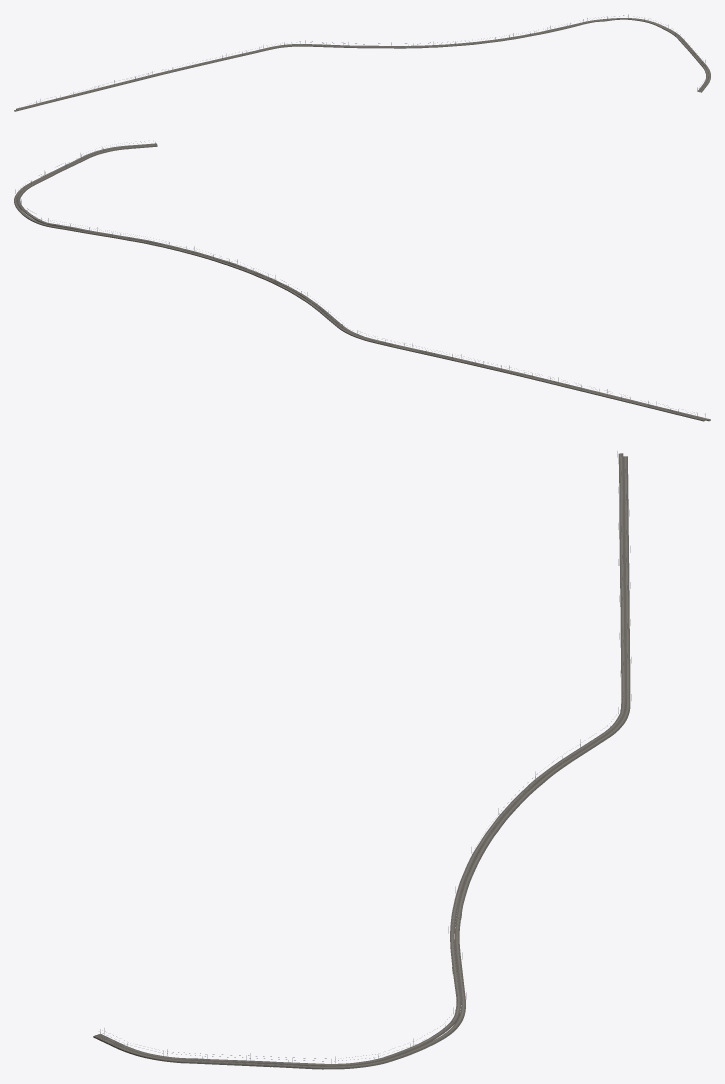
The model's file is br_k209_valley_line_track_lod1.gltf.
3 views of the same model, one above another, from view 1: azimuth 30°, elevation 25°; view 2: azimuth 150°, elevation 25°; view 3: azimuth 270°, elevation 25° (orthographic). The views are drawn at different scales.
Parts seen in each view (by area): view 1: br_k209_valley_line_track_lod1; view 2: br_k209_valley_line_track_lod1; view 3: br_k209_valley_line_track_lod1.
Boxes of the visible parts, x1,y1,x2,y2 form: br_k209_valley_line_track_lod1: (14,14,710,111); br_k209_valley_line_track_lod1: (14,141,710,421); br_k209_valley_line_track_lod1: (93,451,631,1069).
Size of the model in its own units: 1274 by 51.72 by 500.
